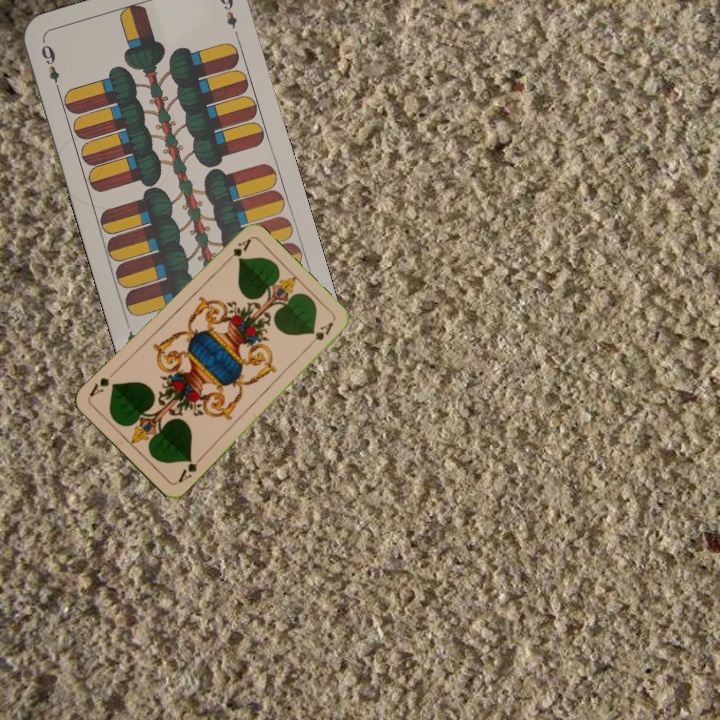E9: (37, 38, 63, 96)
GA: (220, 235, 254, 267), (174, 453, 205, 486)
